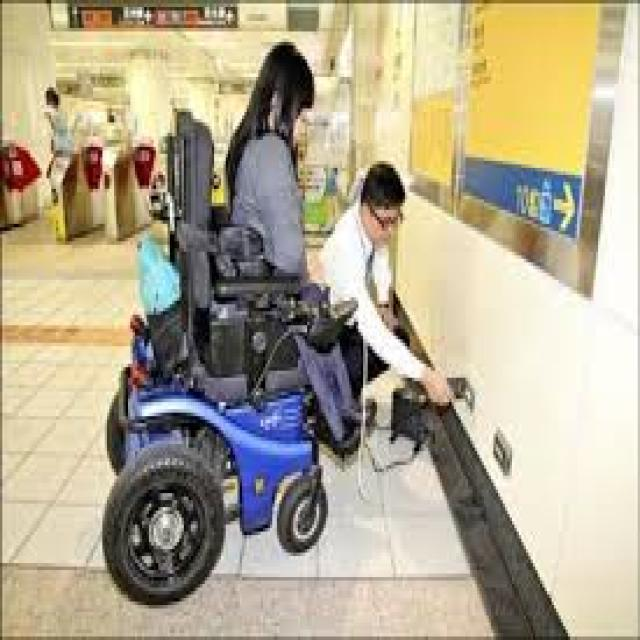wheelchairs: (82, 108, 358, 598)
